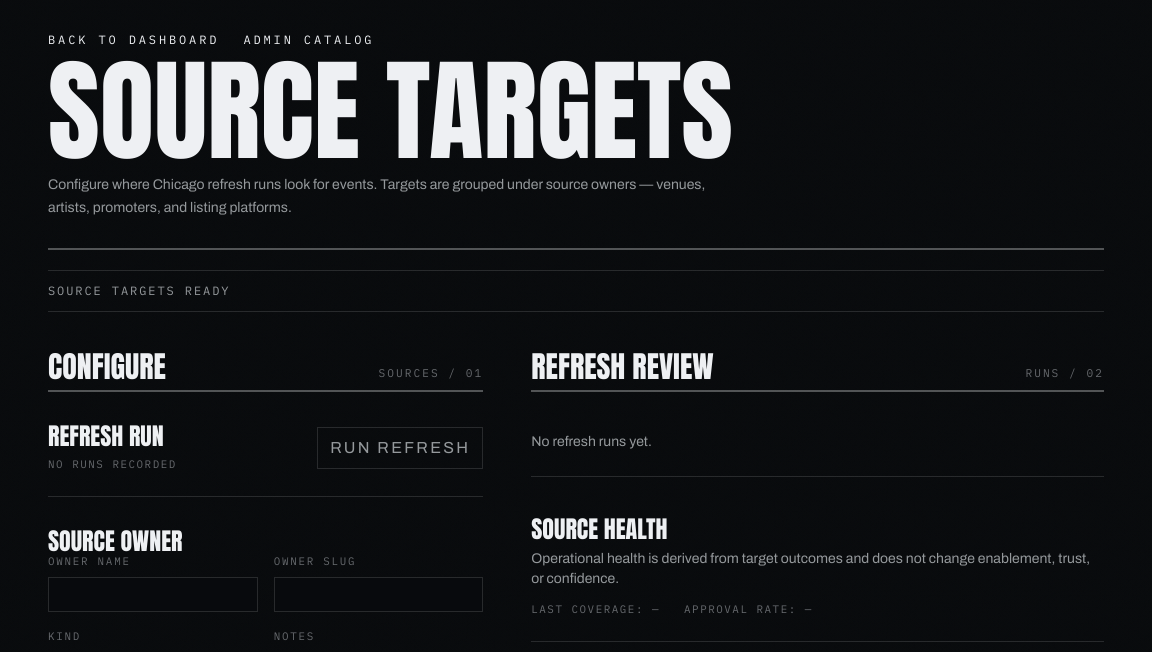
Test: AdminSourceTargets › identifies the active run when a manual refresh overlaps
Click the button "Run refresh".
click(400, 448)  # box [317,427,483,469]
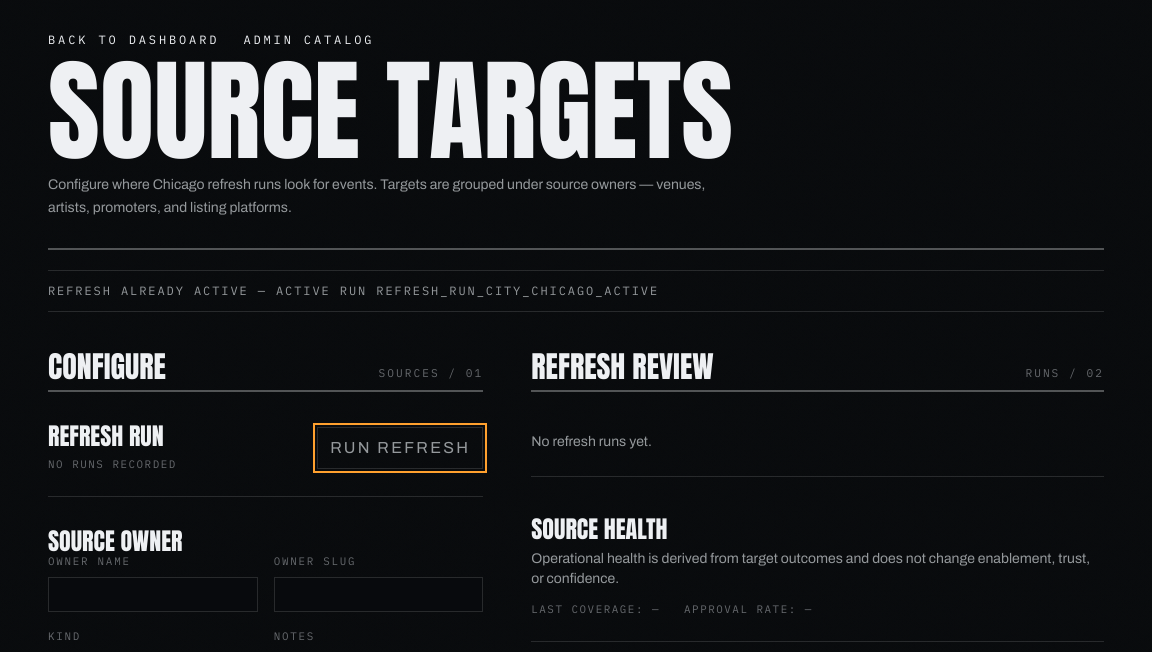
Now the message named "source targets status" reads "Refresh already active — active run refresh_run_city_chicago_active", box [48,283,659,298]
